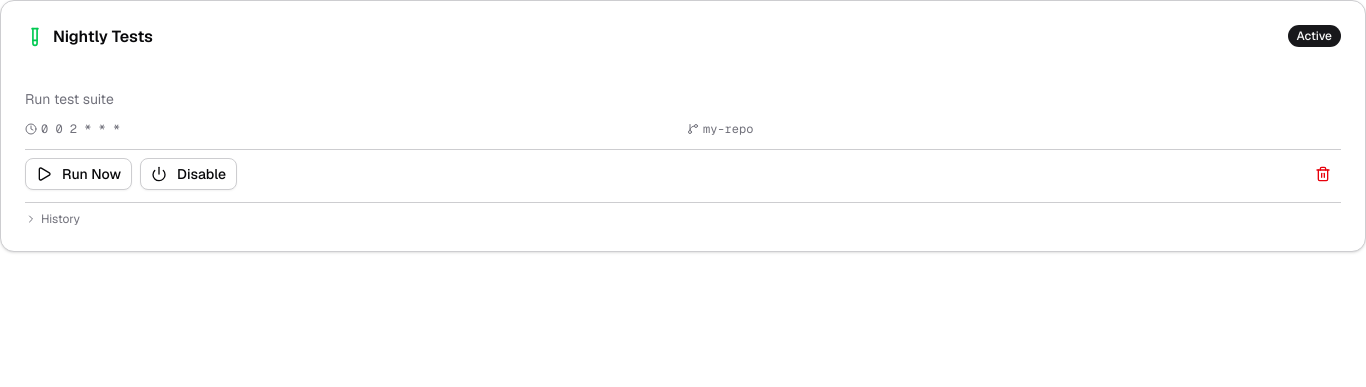
Test: JobCard - extended › only shows 3 most recent history tasks
Click the button "History".
click(60, 219)  # box [25, 211, 1341, 227]
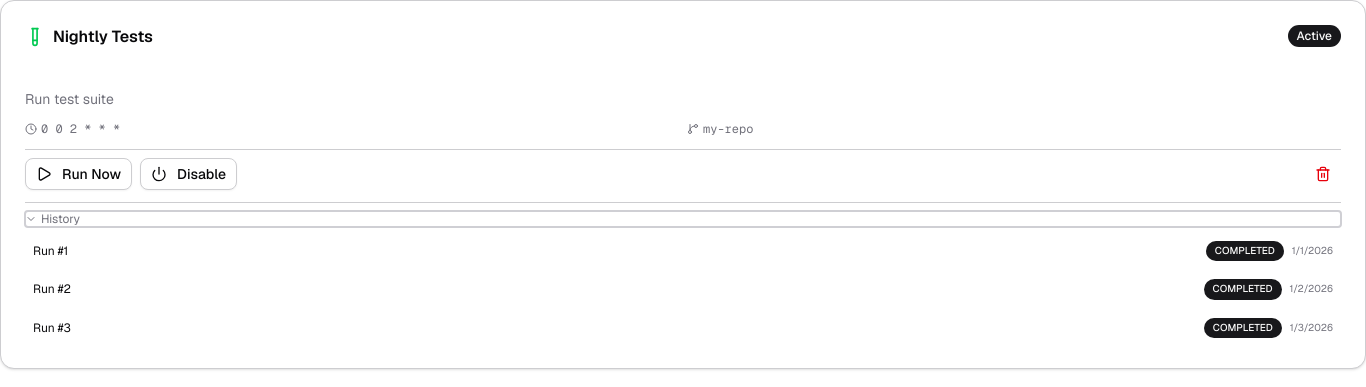
Check: the text "Run #1" is shown, box [33, 243, 68, 259]
Check: the text "Run #2" is shown, box [33, 281, 71, 297]
Check: the text "Run #3" is shown, box [33, 320, 71, 336]
